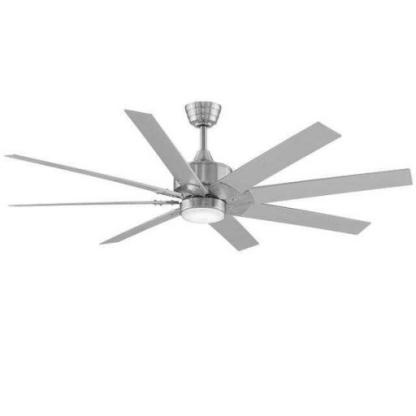ceiling-fan: (2, 100, 413, 251)
